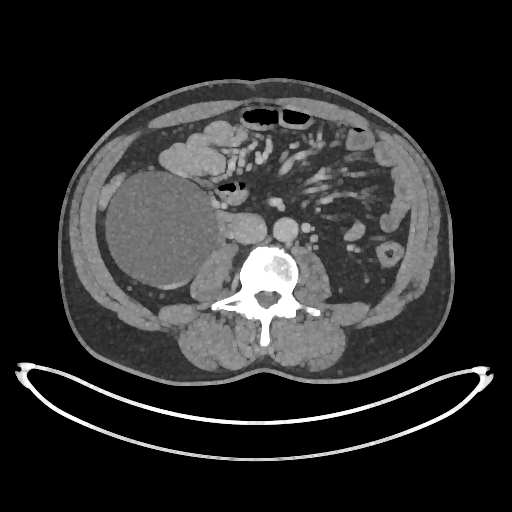Lesion: (105, 170, 215, 287)
